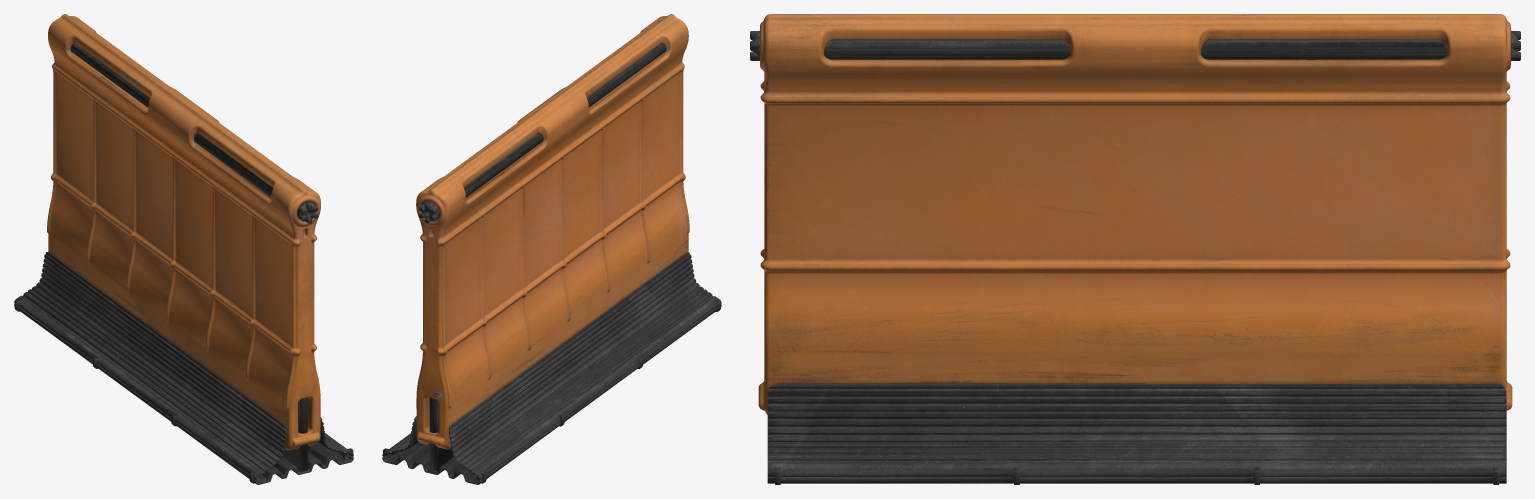
The model's file is barricade.glb.
3 views of the same model, side by side, from view 1: azimuth 30°, elevation 25°; view 2: azimuth 150°, elevation 25°; view 3: azimuth 270°, elevation 25° (orthographic). The views are drawn at different scales.
Visible parts, largest first — view 1: base_01_mesh_00; view 2: base_01_mesh_00; view 3: base_01_mesh_00.
Boxes of the visible parts, x1=… form: base_01_mesh_00: x1=14, y1=14, x2=353, y2=484; base_01_mesh_00: x1=382, y1=14, x2=721, y2=484; base_01_mesh_00: x1=750, y1=14, x2=1520, y2=484.
Size of the model in its own units: 0.3118 by 0.83 by 1.34.
3 materials, 3 textured.
